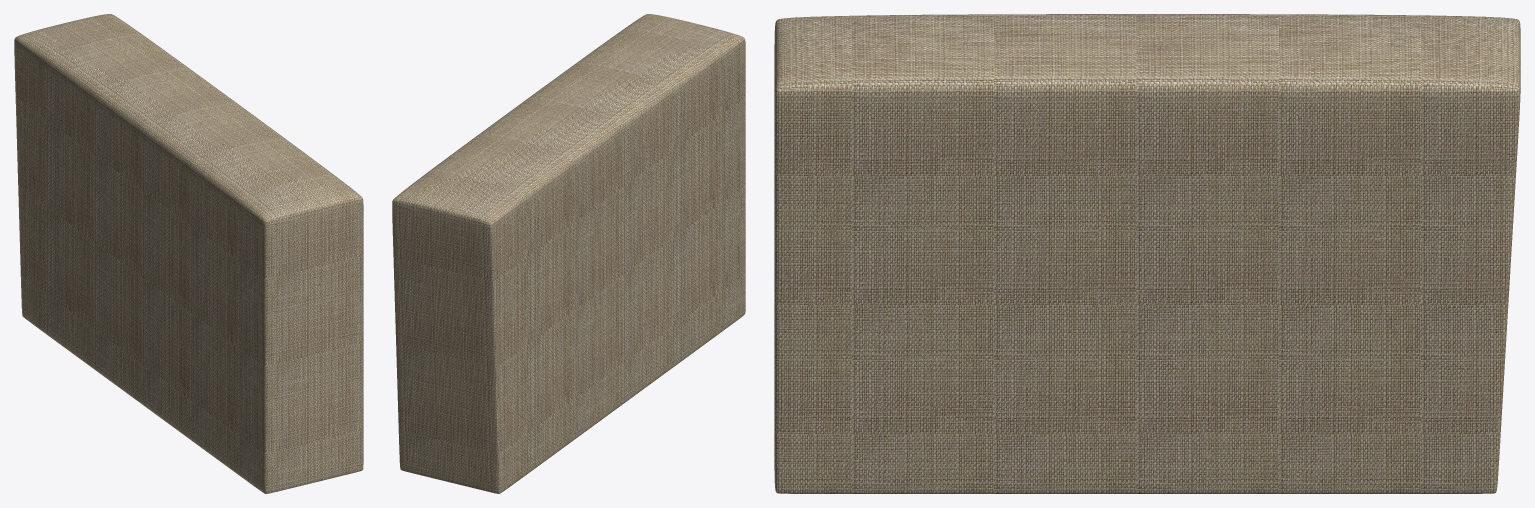
File: burtonjames_536sofa_leg2.gltf
The picture shows the model from 3 angles, left to right: view 1: azimuth 30°, elevation 25°; view 2: azimuth 150°, elevation 25°; view 3: azimuth 270°, elevation 25°; orthographic projection. The views are drawn at different scales.
Parts seen in each view (by area): view 1: burtonjames_536sofa_leg2; view 2: burtonjames_536sofa_leg2; view 3: burtonjames_536sofa_leg2.
Part boxes in pixels (box(x1,y1,x2,y2)): burtonjames_536sofa_leg2: box(14, 14, 363, 493); burtonjames_536sofa_leg2: box(392, 14, 745, 493); burtonjames_536sofa_leg2: box(774, 14, 1520, 493).
Size of the model in its own units: 241 by 651 by 1048.
Materials: 1 (1 with a texture image).
